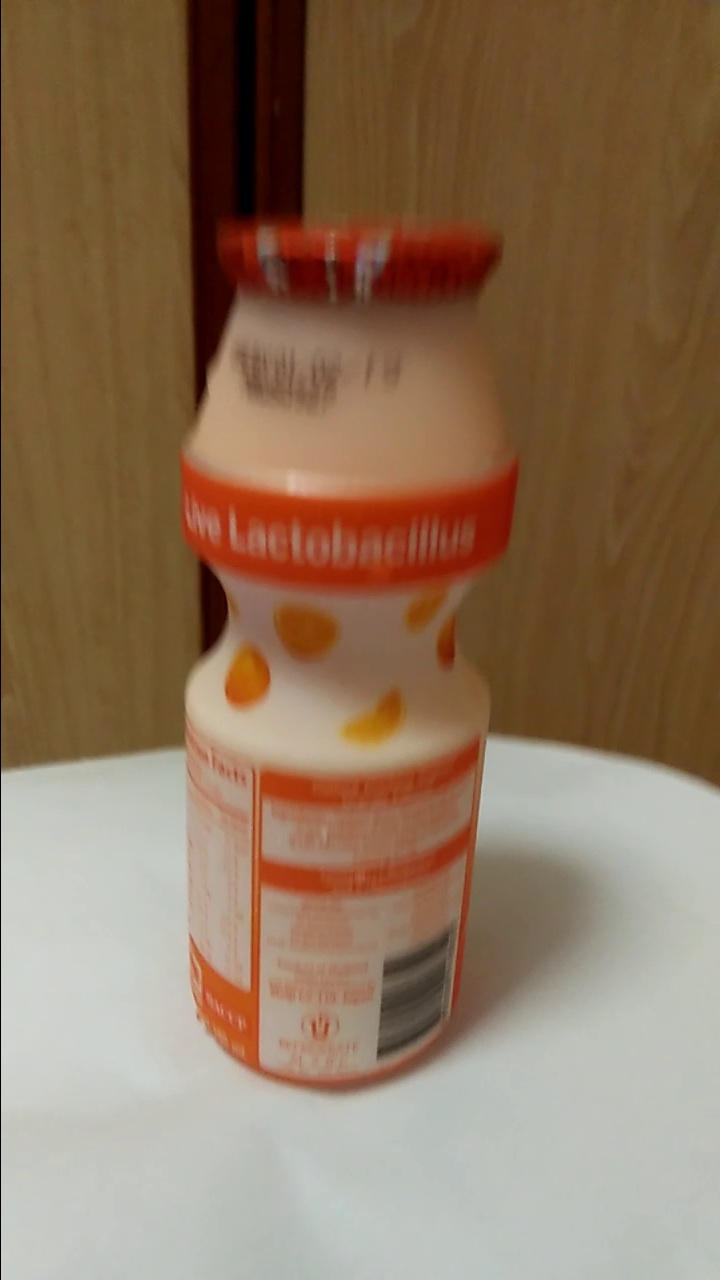milk: (201, 219, 468, 1082)
